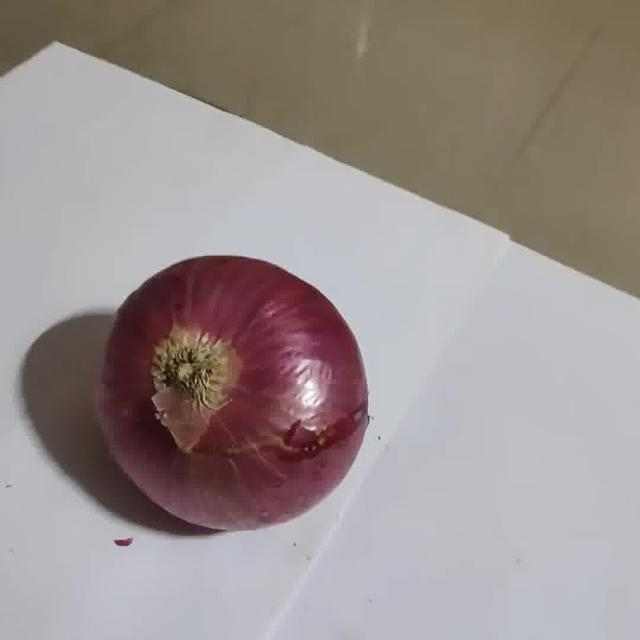Onion: (101, 256, 369, 530)
